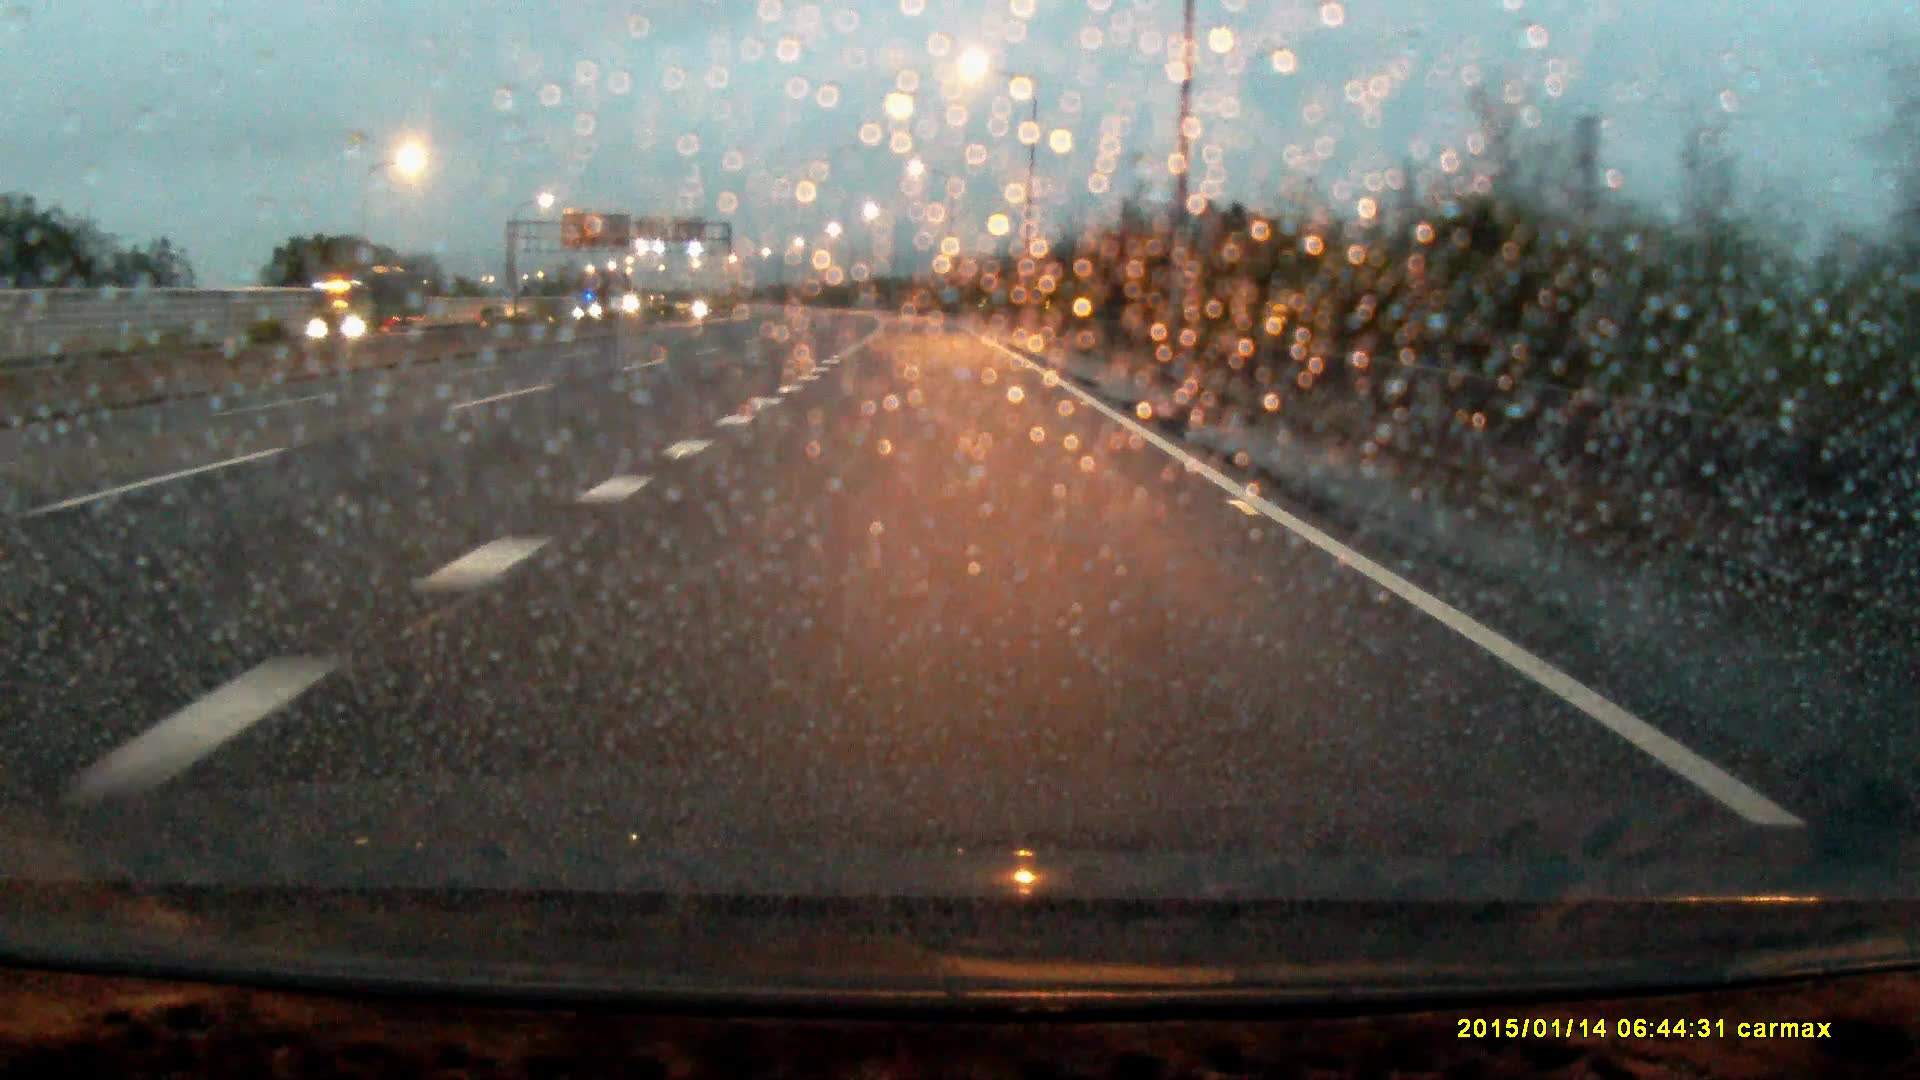vehicle: (305, 280, 404, 345)
